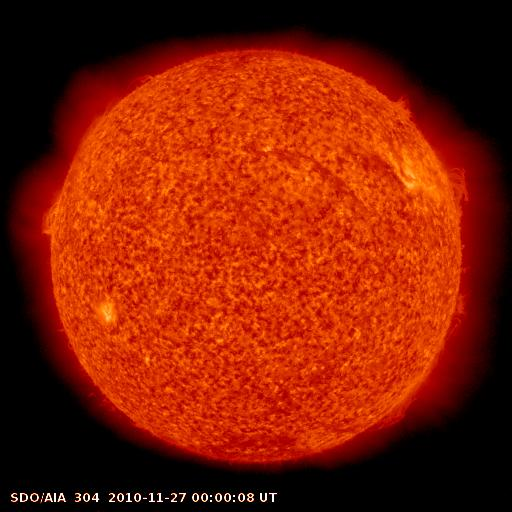prominence: (82, 68, 156, 143), (369, 367, 440, 436), (431, 257, 483, 342), (439, 151, 484, 217), (21, 193, 73, 248), (385, 82, 432, 132)
